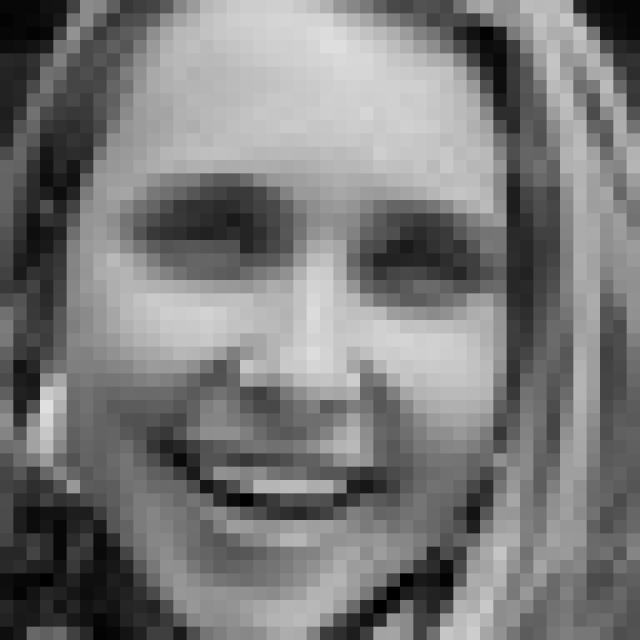happy: (112, 160, 503, 586)
